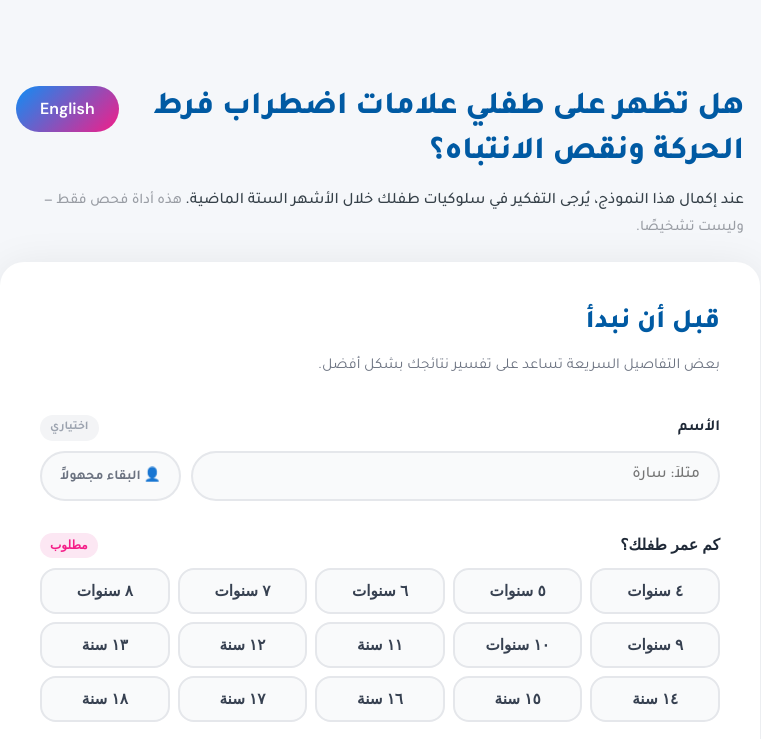
Test: Arabicquiz — Question screen navigation › transitions to the quiz screen after valid intake
What coordinates should you click on to do the following:
click the button "٨ سنوات"
I would click on:
 (105, 591)
Its box is [40,568,170,614].
(page scrolled)
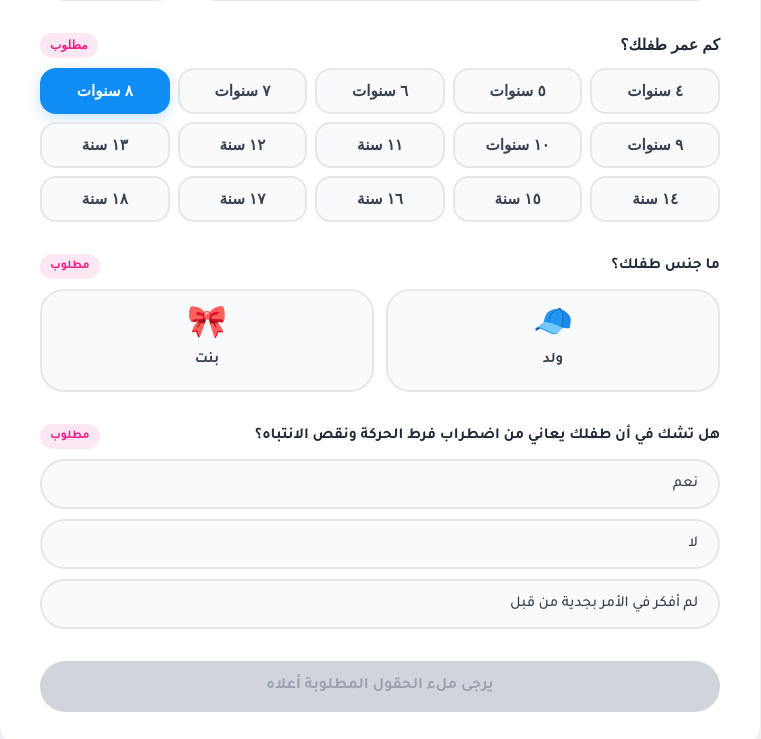
What coordinates should you click on to do the following:
click the text "ولد"
I would click on:
 (553, 360)
Its box is [543,351,563,370].
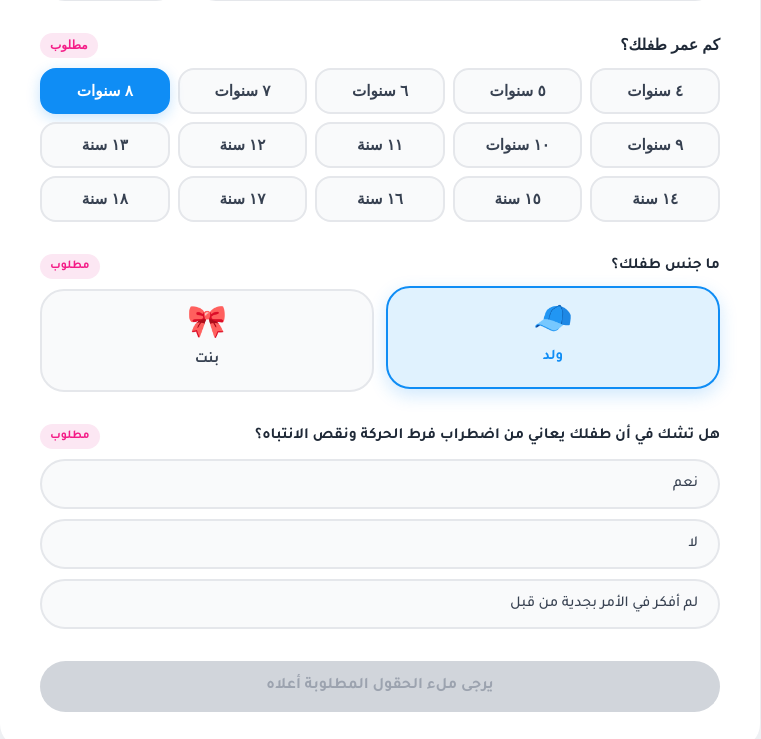
What coordinates should you click on to do the following:
click the button "نعم"
I would click on:
 (685, 484)
Its box is [40,459,720,509].
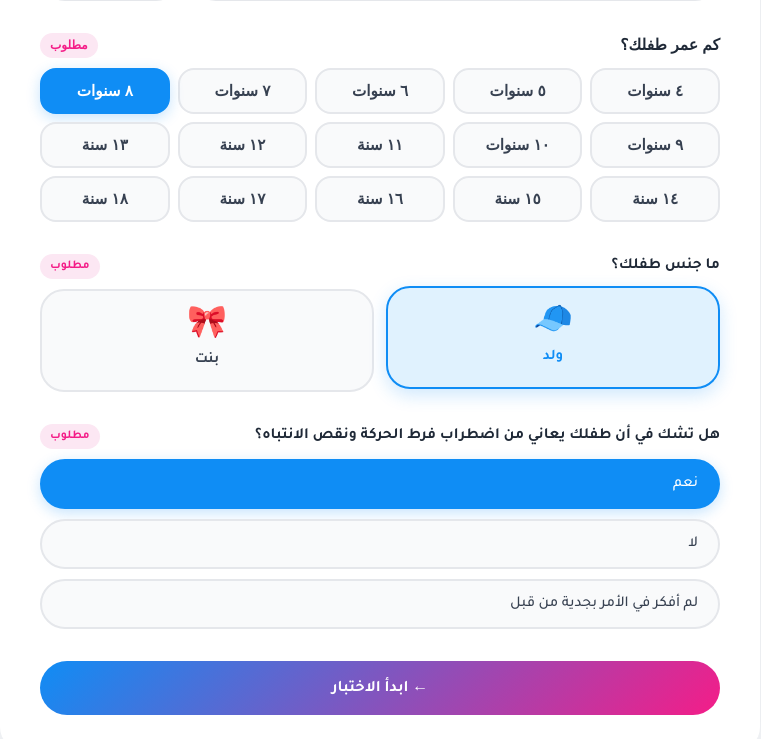
What coordinates should you click on to do the following:
click the button "← ابدأ الاختبار"
I would click on:
 (380, 688)
Its box is [40,661,720,715].
(page scrolled)
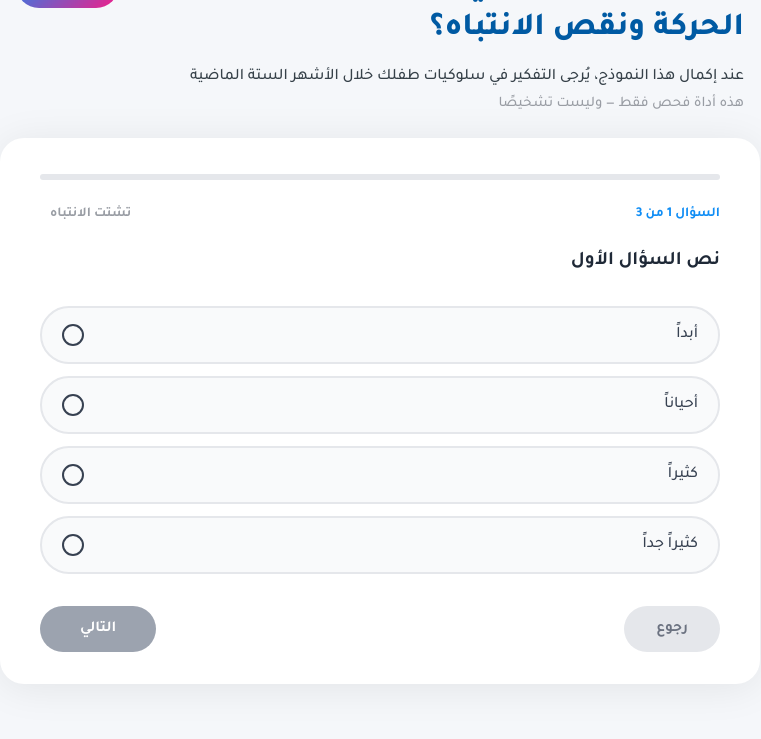
Check: the text "السؤال 1 من 3" is shown, box [636,204,720,226]
